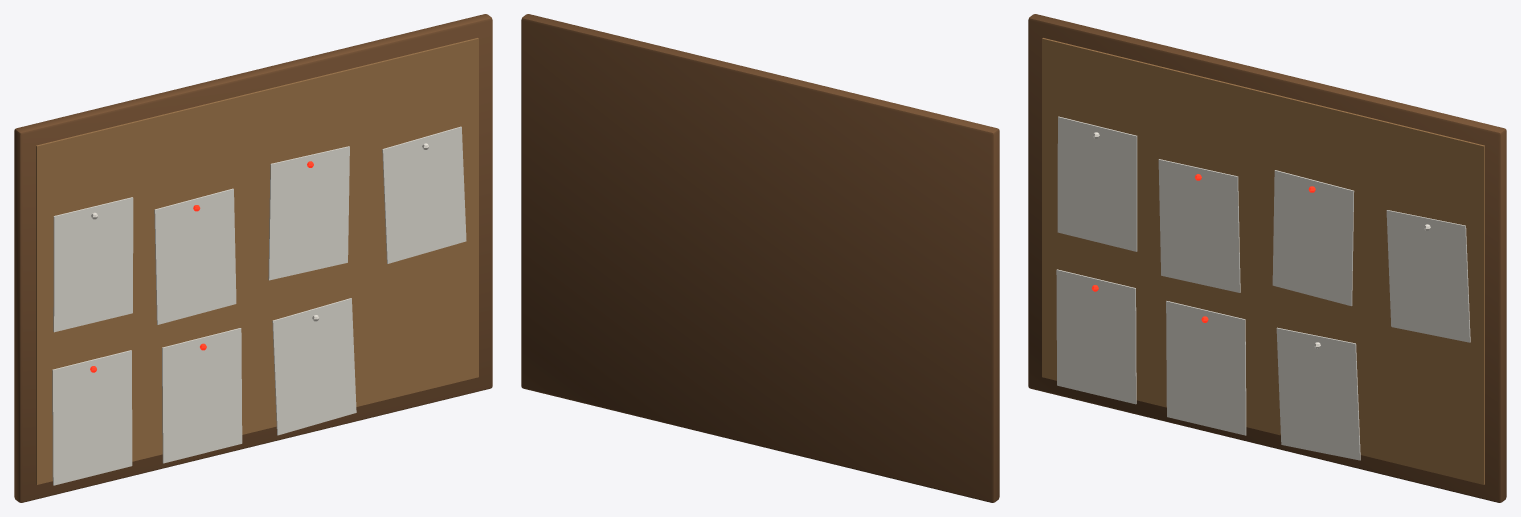
File: notice_board.glb
3 views of the same model, side by side, from view 1: azimuth 30°, elevation 25°; view 2: azimuth 150°, elevation 25°; view 3: azimuth 330°, elevation 25° (orthographic).
Visible parts, largest first — view 1: notice_board; view 2: notice_board; view 3: notice_board.
Boxes of the visible parts, box(x1,y1,x2,y2) form: notice_board: box(14, 14, 492, 502); notice_board: box(521, 14, 999, 502); notice_board: box(1028, 14, 1506, 502).
Size of the model in its own units: 1.2 by 0.9 by 0.05.
